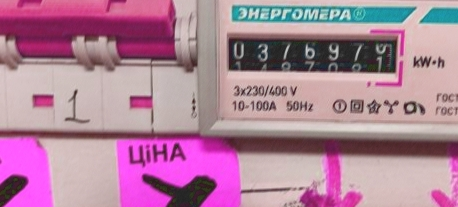0: (231, 39, 244, 59)
1: (373, 53, 384, 71)
3: (255, 41, 268, 61)
6: (302, 37, 315, 59)
7: (278, 39, 291, 60), (350, 39, 362, 61)
9: (326, 39, 338, 60)
screen: (217, 23, 408, 87)
